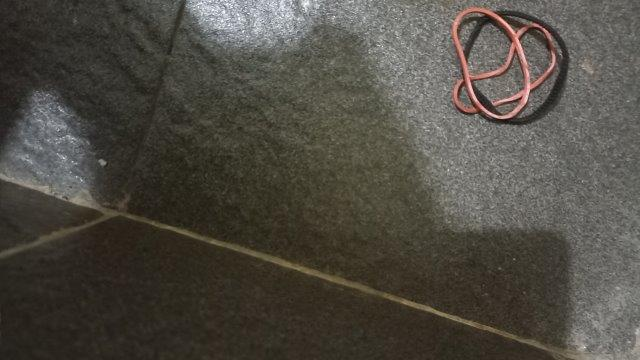karet: (451, 6, 570, 126)
